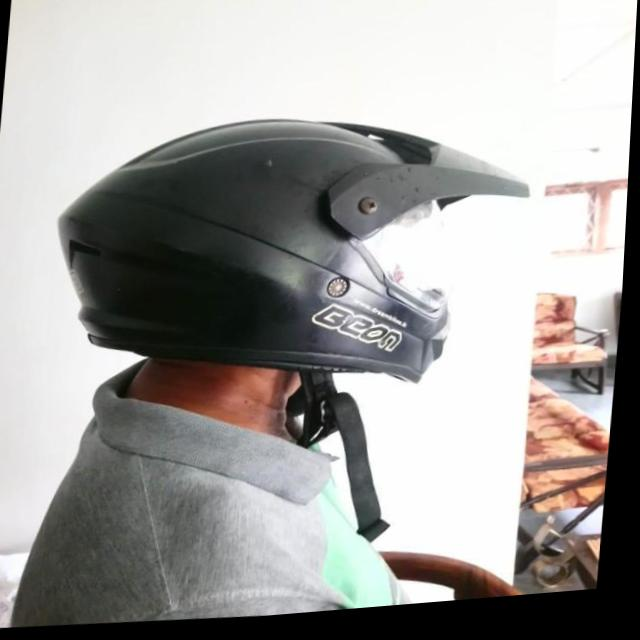helmet: (36, 91, 540, 576)
